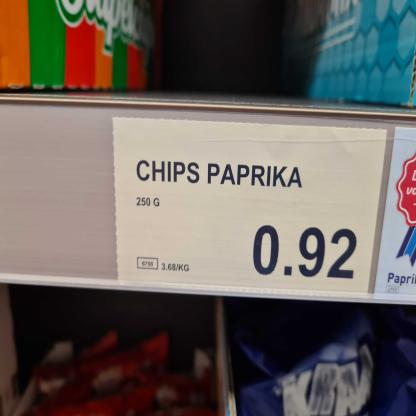prtg: (112, 118, 389, 301)
